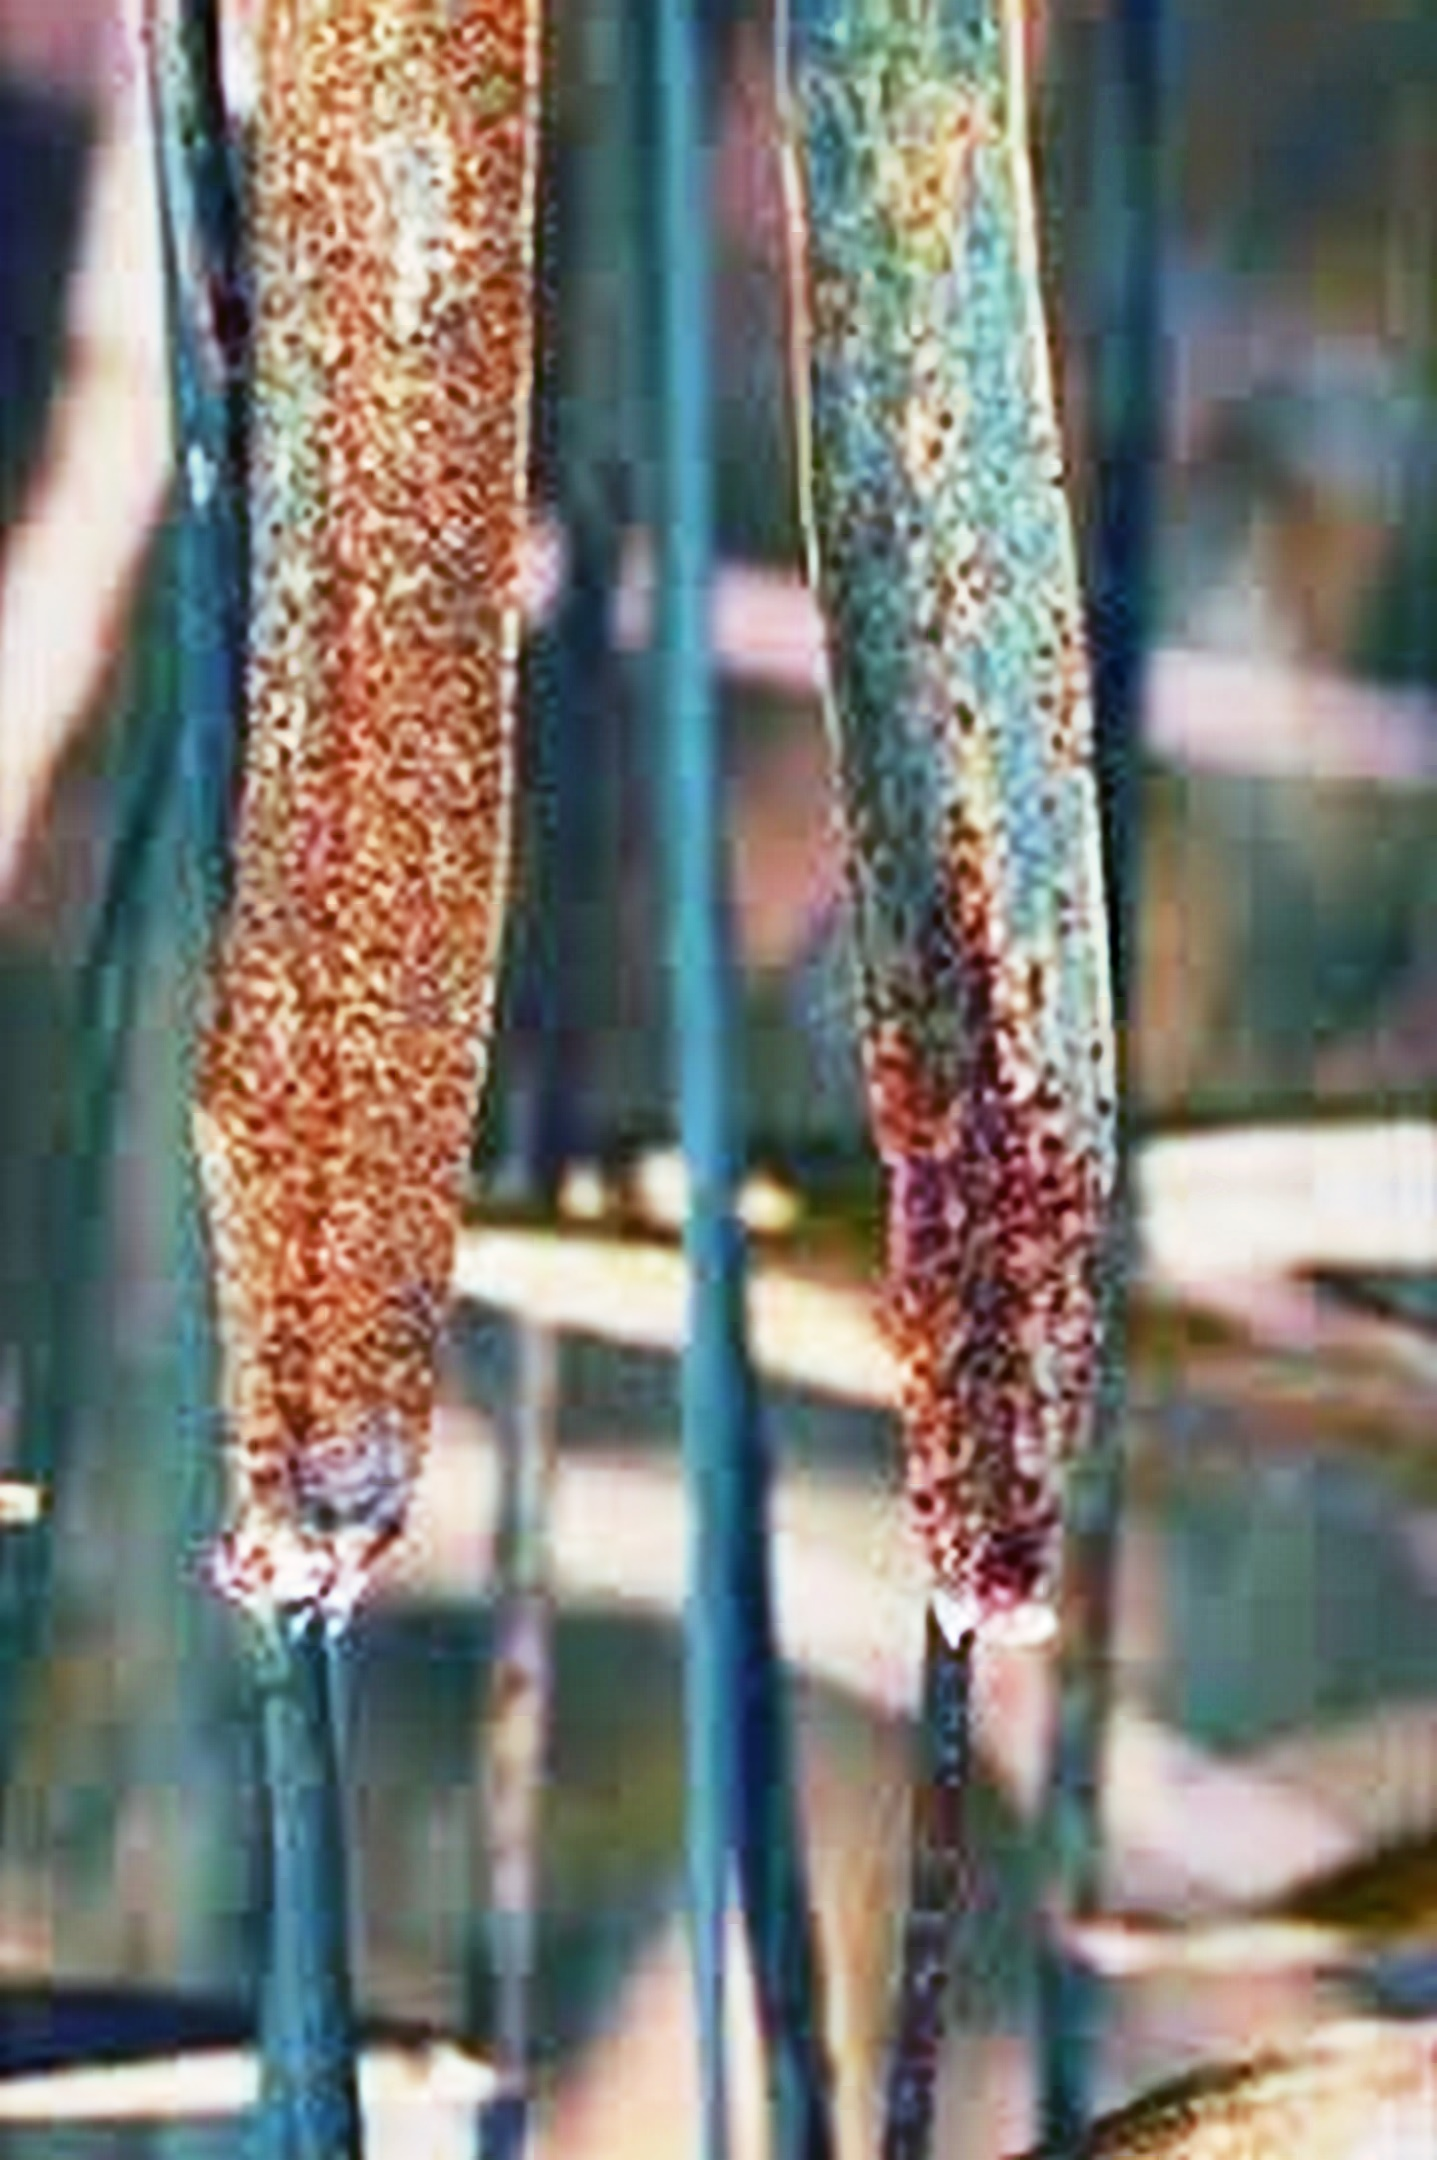Leaf Rust: (168, 8, 557, 1527)
